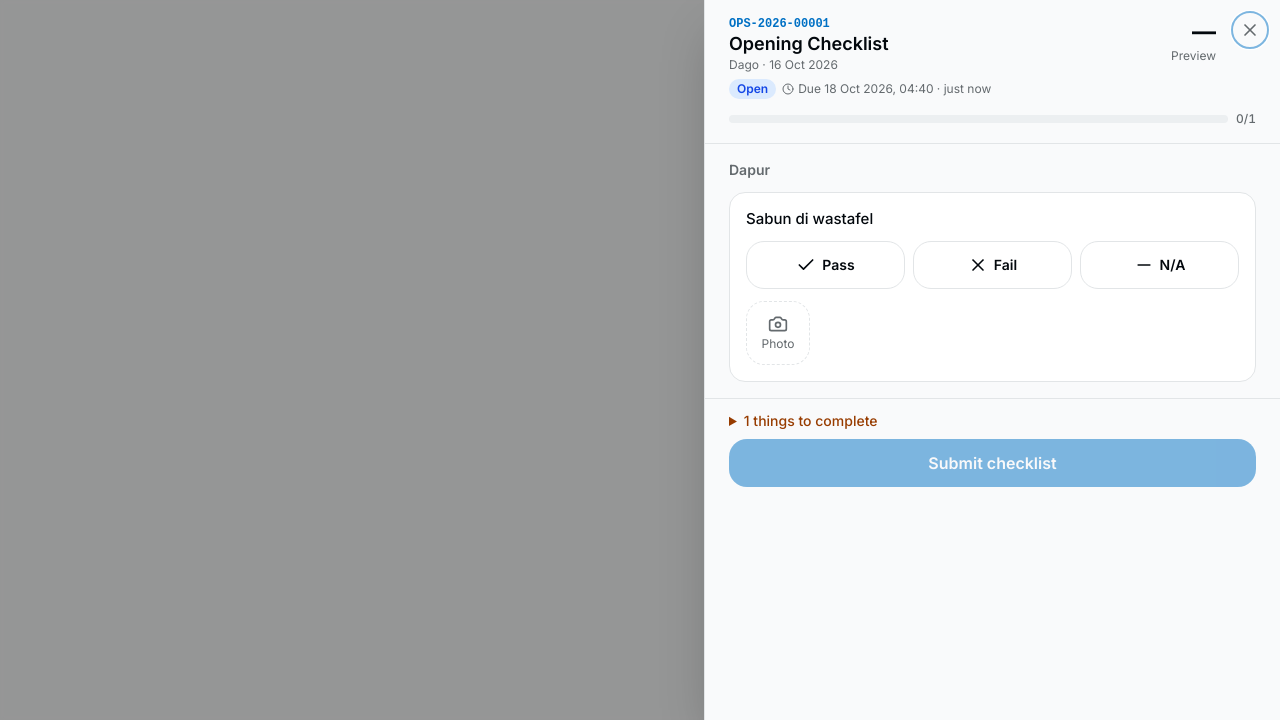
Scenario: ChecklistRunner › answers a check item with the big buttons
Step 1. Click the button "Pass" → (826, 265), box [746,241,905,289]
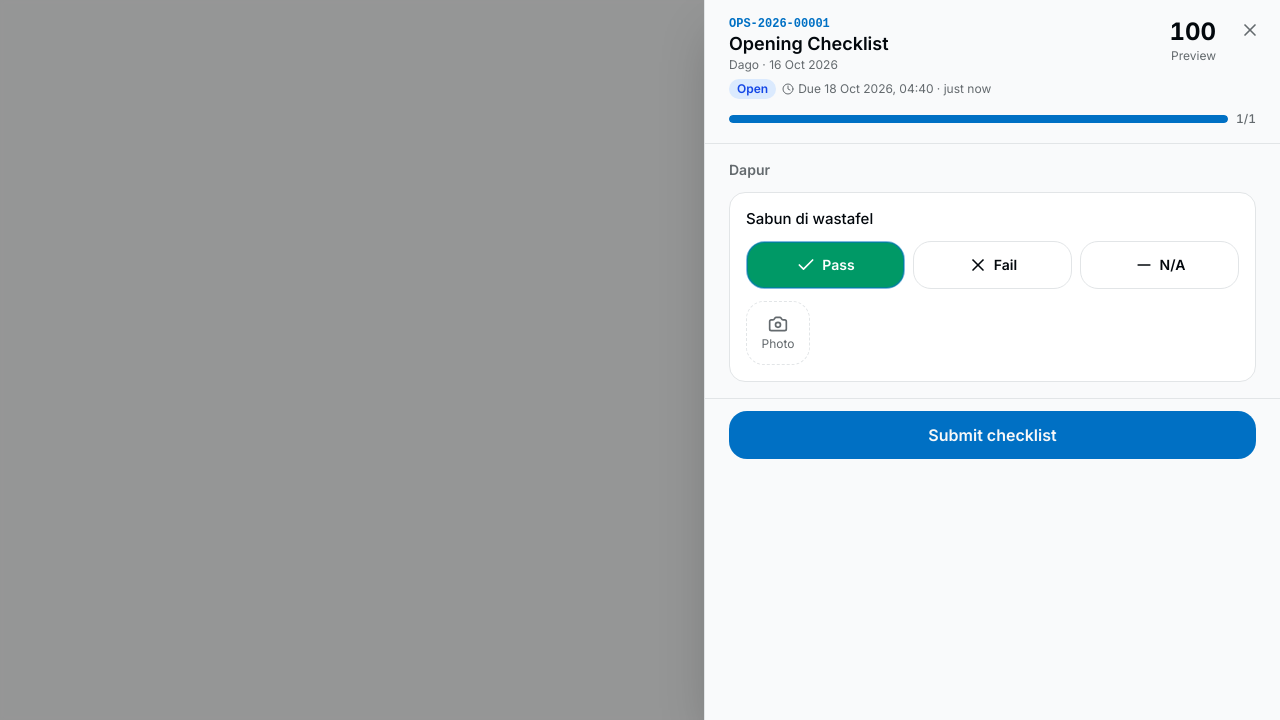
expect the text "1/1" is shown: met, box [1236,111,1256,127]
